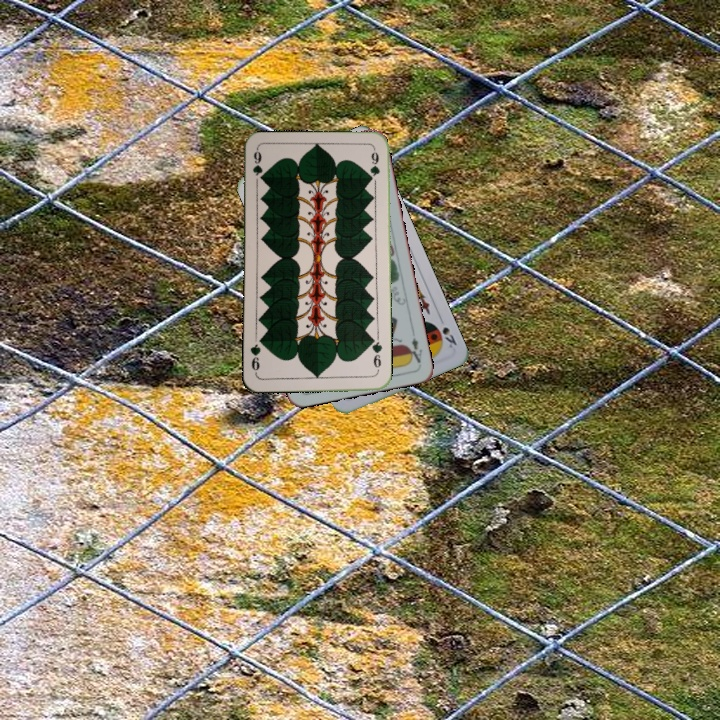EA: (404, 333, 425, 366)
G9: (367, 335, 385, 375), (249, 147, 265, 178)
SK: (438, 323, 459, 351)
